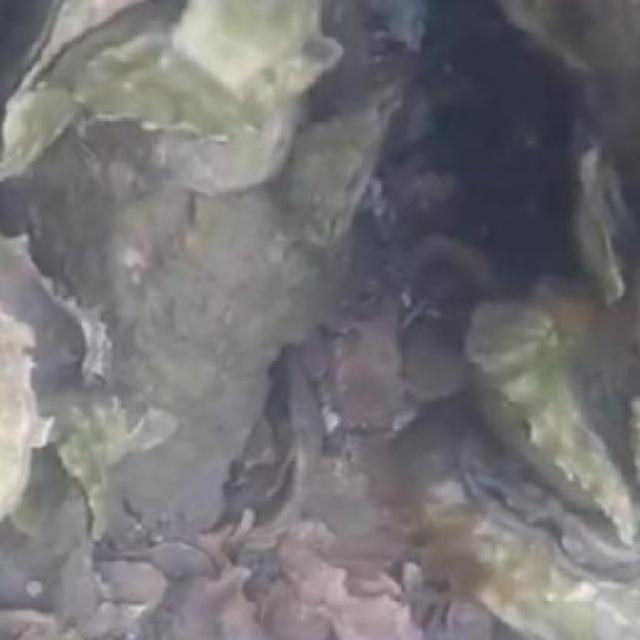Oyster-Closed: (4, 0, 189, 187), (455, 429, 638, 593), (285, 77, 408, 252)
Oyster-Indeterminate: (70, 0, 347, 146), (470, 298, 634, 535)
Oyster-Open: (572, 142, 638, 313)
